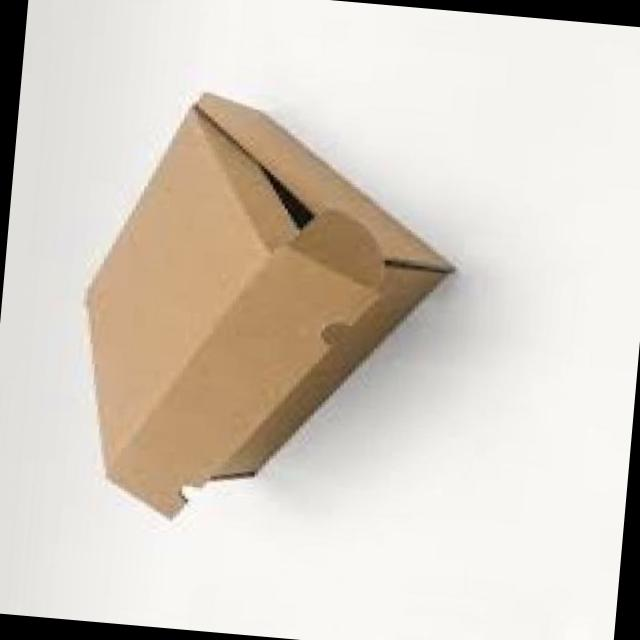cardboard paper: (83, 95, 450, 517)
